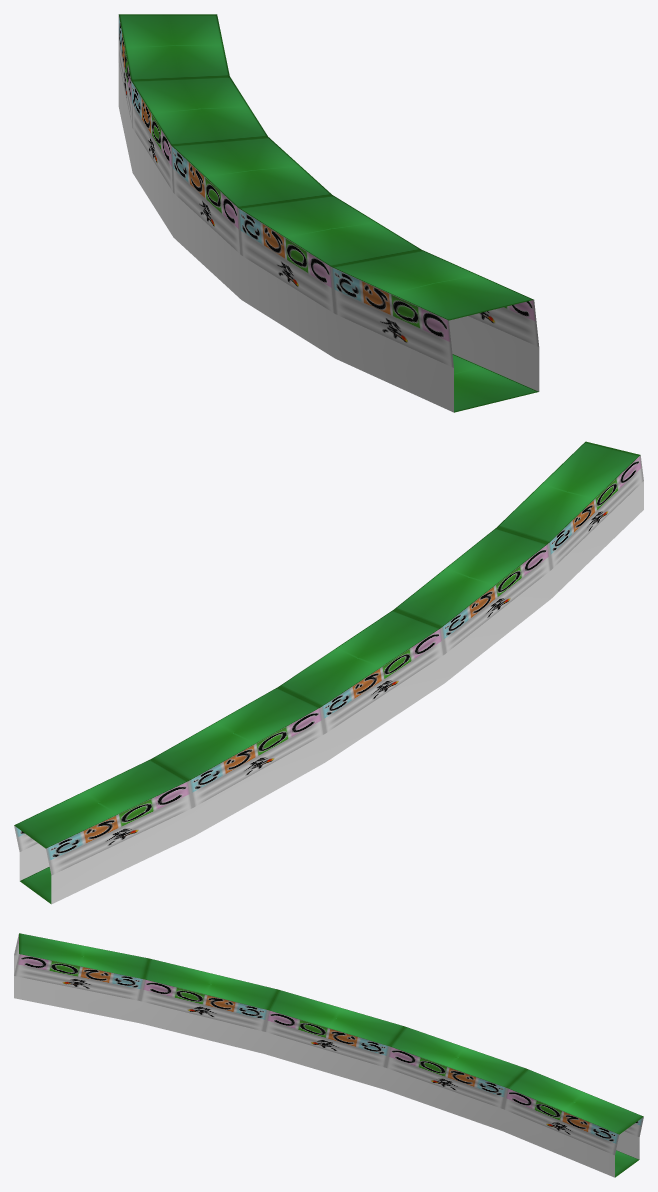
Rendered from CourseSpring_Box_Wall_L_6.fbx.
3 renders of one model, top to bottom at view 1: azimuth 30°, elevation 25°; view 2: azimuth 150°, elevation 25°; view 3: azimuth 270°, elevation 25°, orthographic. The views are drawn at different scales.
Visible parts, largest first — view 1: polySurface42; view 2: polySurface42; view 3: polySurface42.
Boxes of the visible parts, <box> form: polySurface42: <box>118,14,539,412</box>; polySurface42: <box>14,441,643,904</box>; polySurface42: <box>14,933,643,1177</box>.
Bounding box in the file's own units: 8.64 × 6.98 × 25.59.
Materials: 1 (1 with a texture image).
